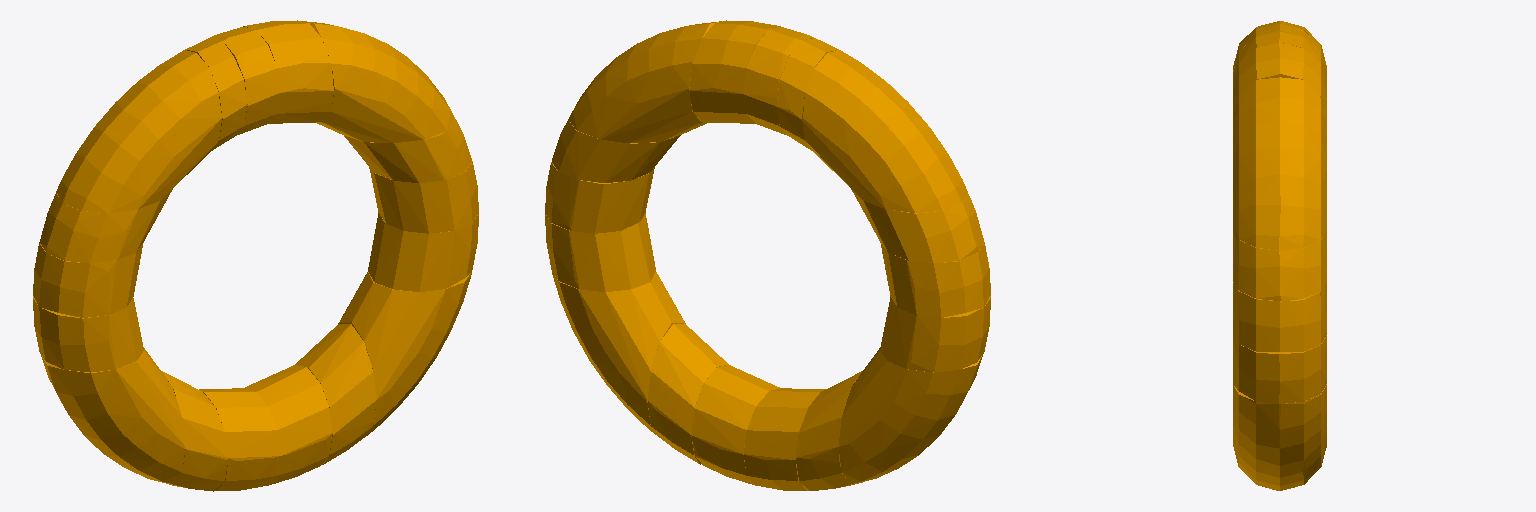
The robot description file, URDF, robot "cylinder":
<?xml version="1.0"?>
<robot name="cylinder">
  <link name="base_link">
    <visual>
      <origin xyz="0 0 0" rpy="0 0 0.0" />
      <geometry>
        <mesh filename="_ring_vhacd.obj" scale="0.2 0.2 0.2"/>
      </geometry>
    </visual>
    <collision>
      <origin xyz="0 0 0" rpy="0 0 0.0" />
      <geometry>
        <mesh filename="_ring_vhacd.obj" scale="0.2 0.2 0.2"/>
      </geometry>
    </collision>
  </link>
</robot>

--- Facts derived from the render (not from the file) ---
Views: 3 orthographic renders of the robot side by side, from view 1: azimuth 30°, elevation 25°; view 2: azimuth 150°, elevation 25°; view 3: azimuth 270°, elevation 25°.
Model cylinder with 1 links and 0 joints (none), rooted at base_link, posed every joint at zero.
Visible links, largest first — view 1: base_link; view 2: base_link; view 3: base_link.
Link boxes in pixels (x1,y1,x2,y2): base_link: [33, 20, 478, 491]; base_link: [545, 20, 990, 490]; base_link: [1233, 21, 1326, 490].
Size in the robot's own frame: 0.5005 by 0.1005 by 0.5005 metres.
1 mesh visuals loaded from 1 distinct referenced files (1 OBJ).